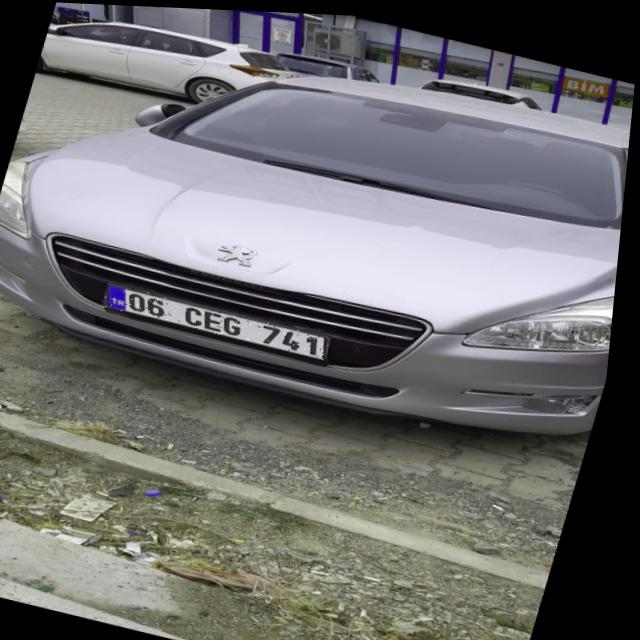license_plate: (104, 282, 342, 358)
